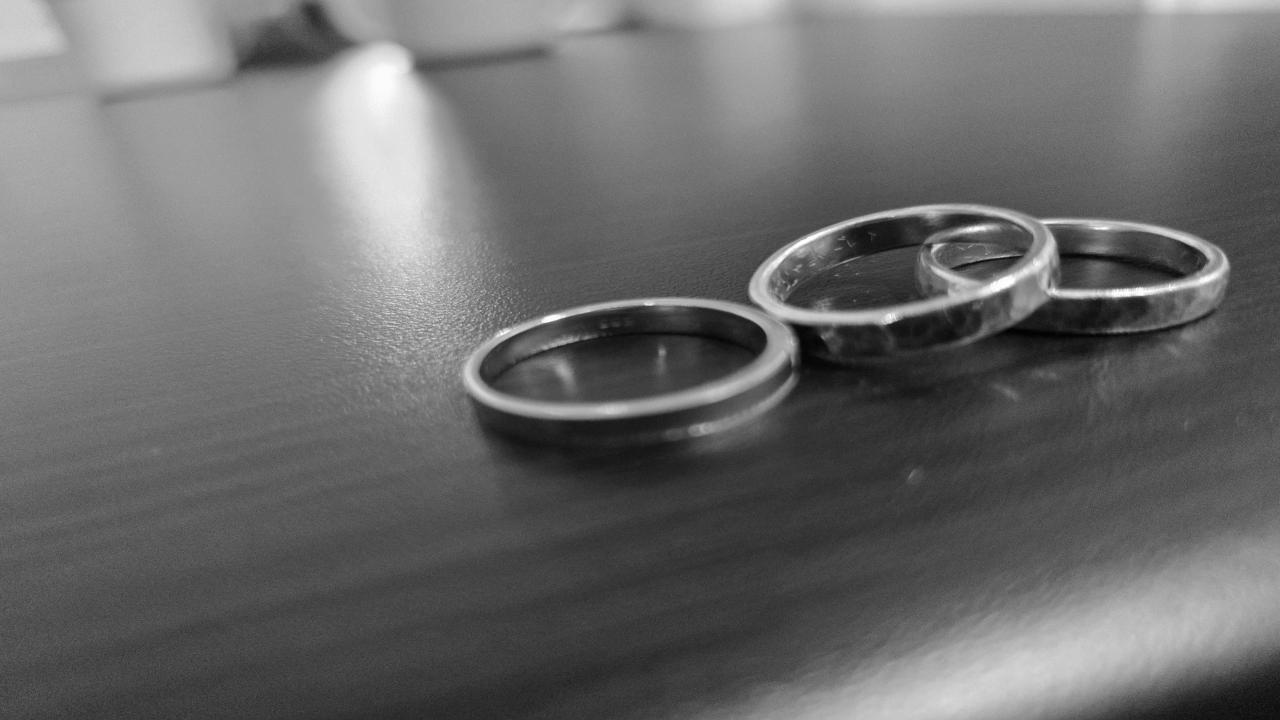ring: (455, 296, 797, 451), (755, 203, 1068, 365), (997, 219, 1237, 336)
